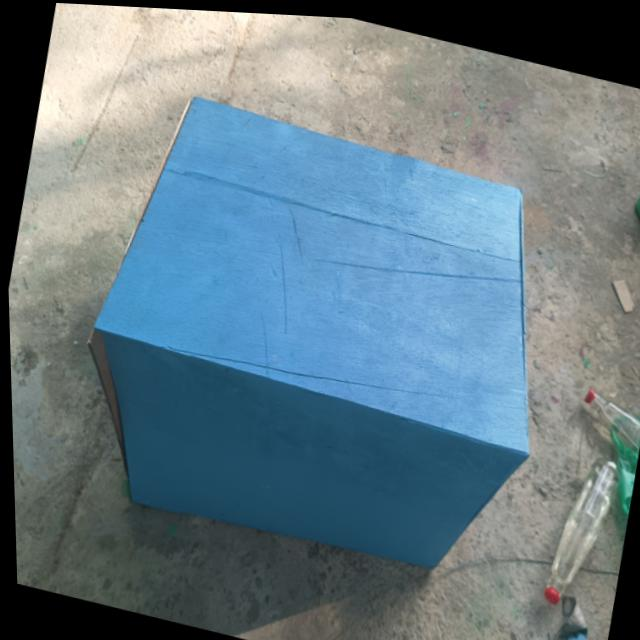blue_box: (51, 66, 584, 604)
